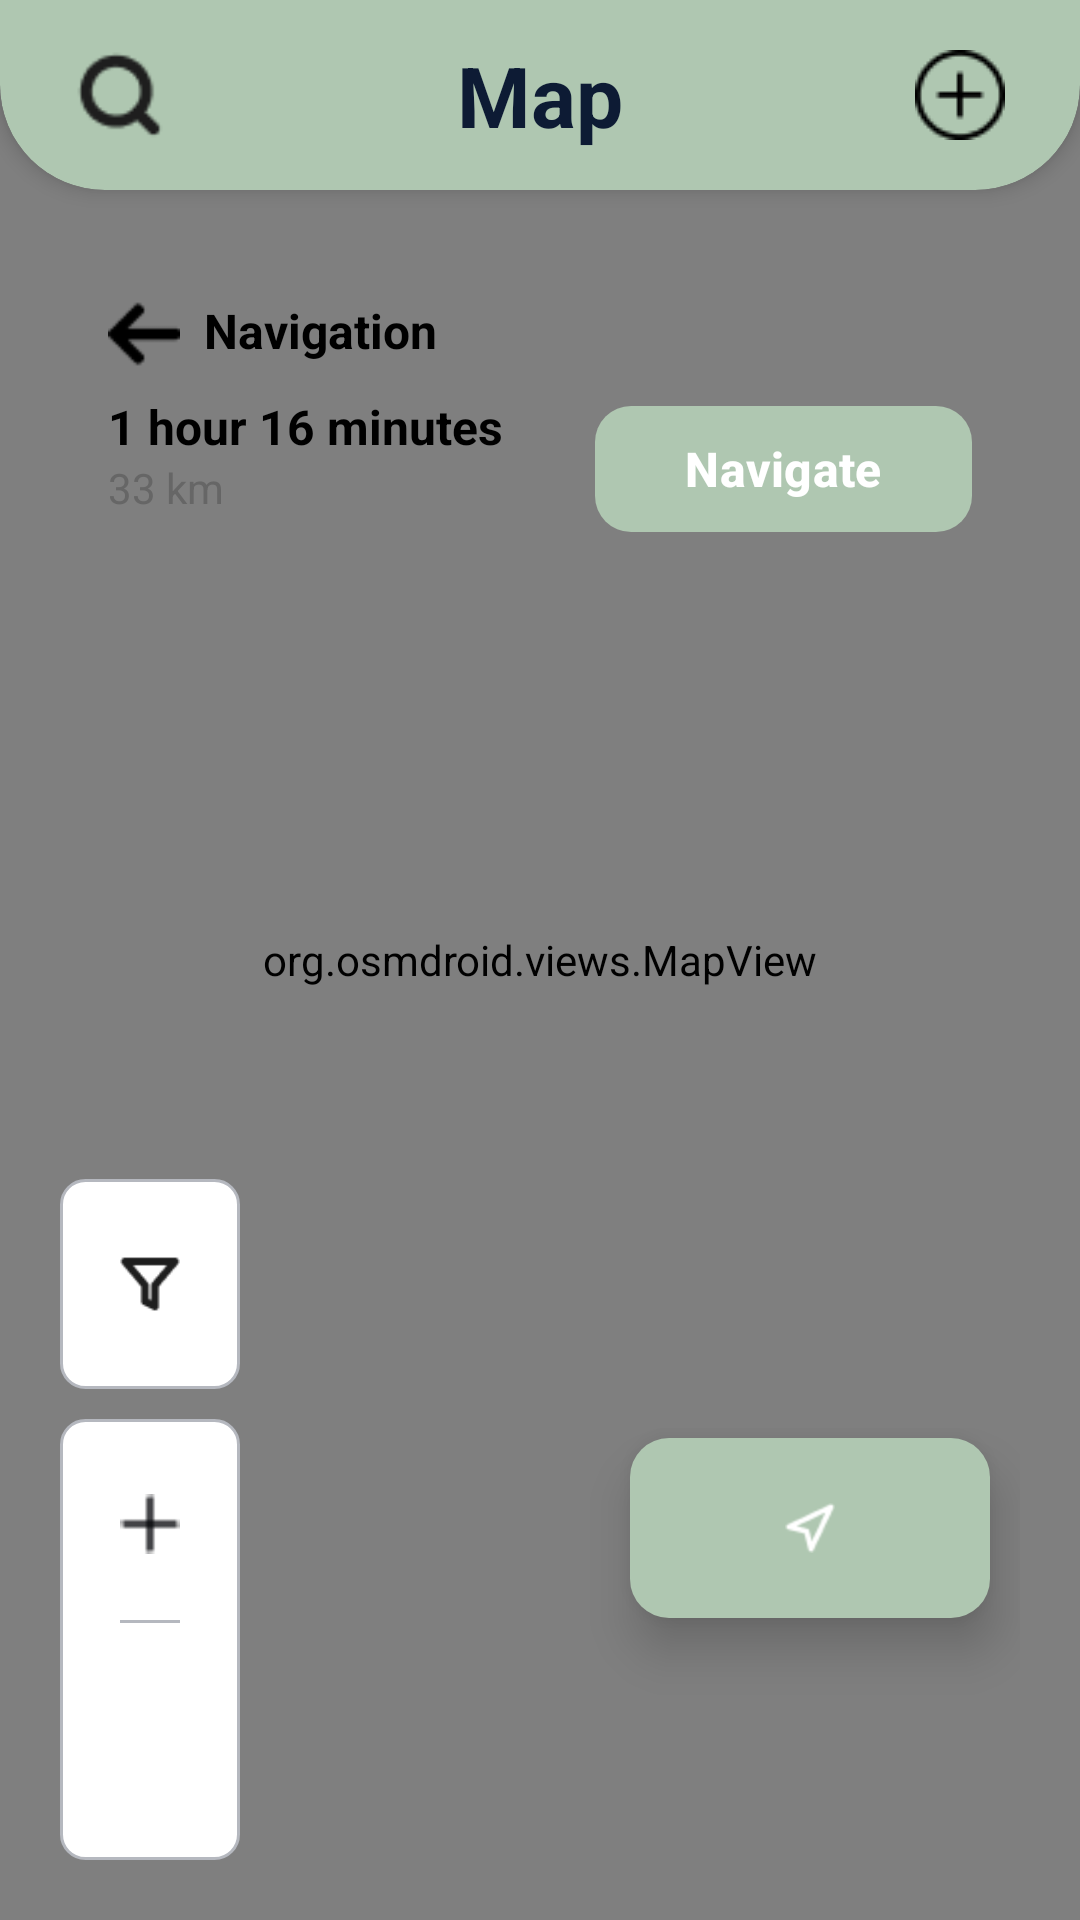

Where icons sit on this 1080*1920 app screen, as detection(x1, y1, x2, y2):
filter: detection(120, 1257, 180, 1311)
search: detection(79, 54, 160, 135)
your location: detection(786, 1504, 834, 1552)
zoomin: detection(120, 1494, 180, 1554)
